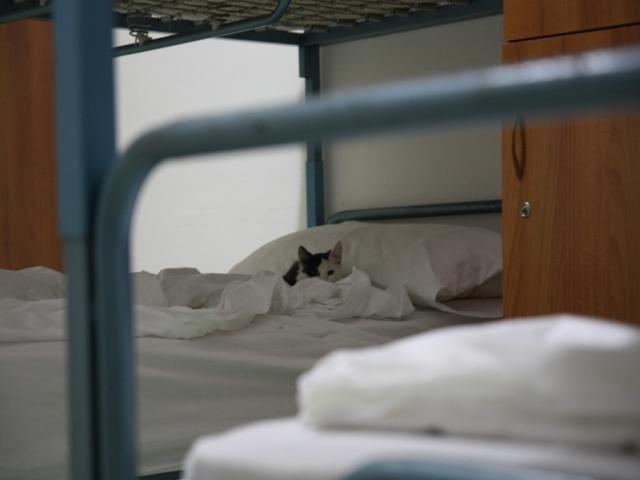Cat: (283, 240, 343, 285)
